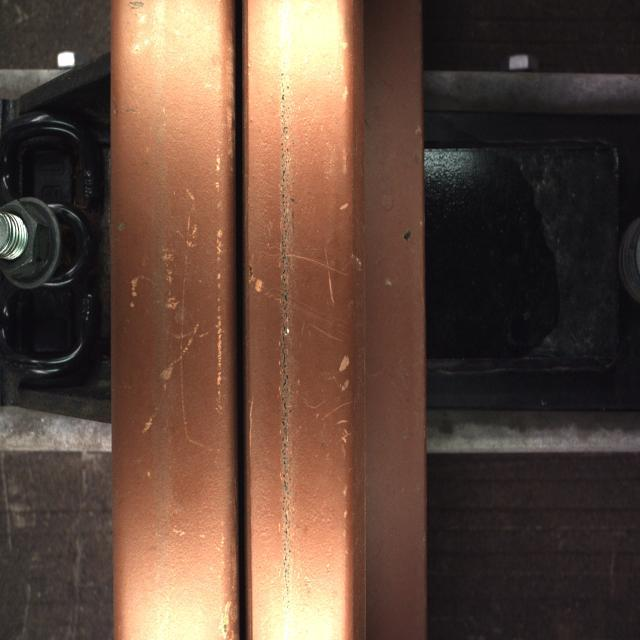scar: (248, 57, 322, 604), (114, 201, 228, 464)
